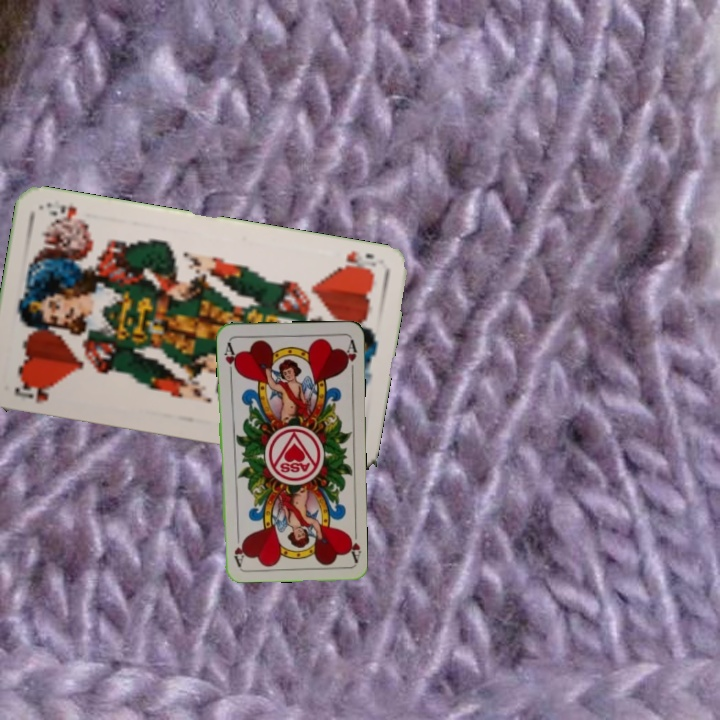HA: (343, 524, 363, 565), (220, 338, 239, 378)
HO: (334, 246, 379, 277), (10, 377, 56, 406)
